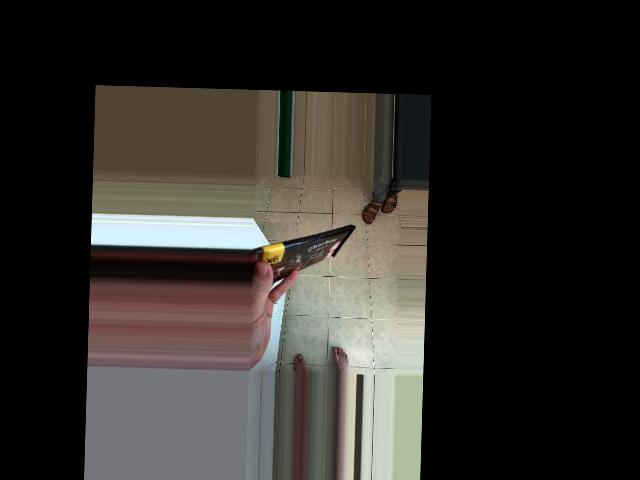chocolate: (295, 220, 372, 325)
